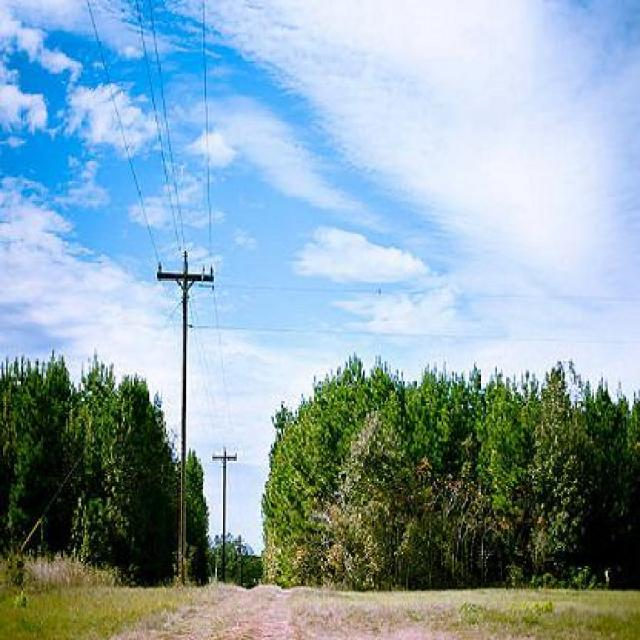pole: (135, 248, 223, 575)
